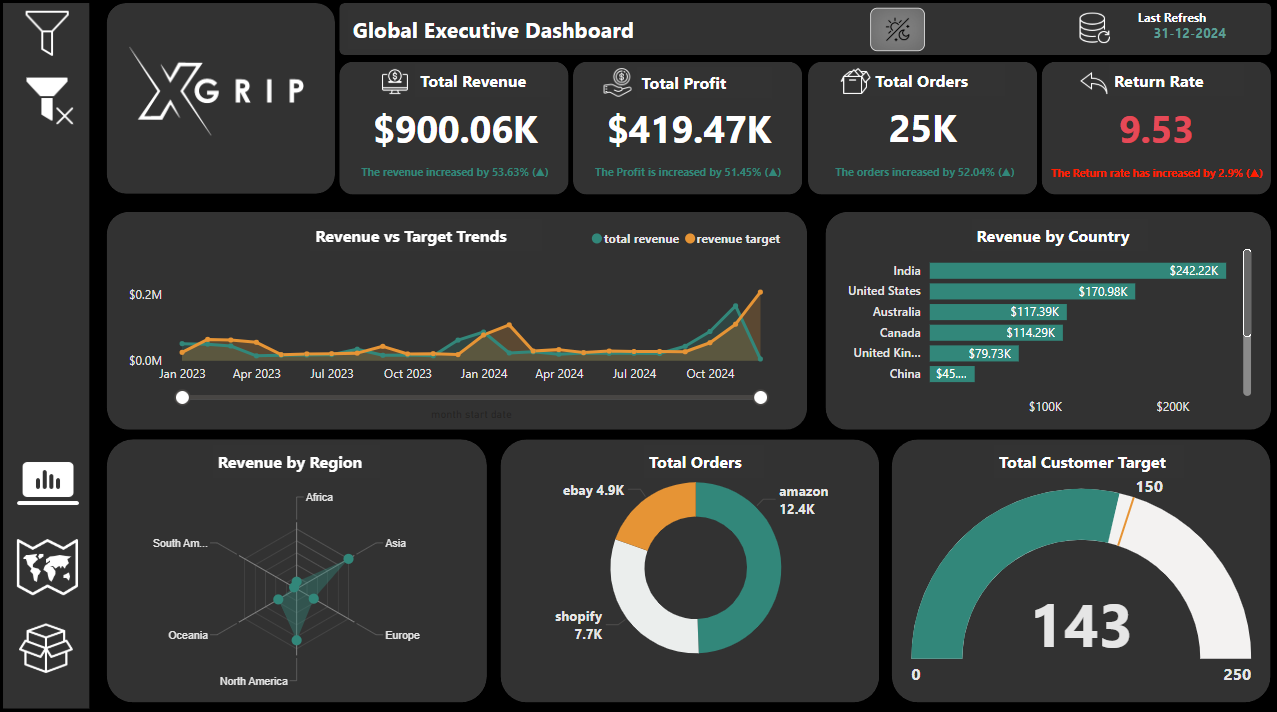

This screenshot's page, from the dashboard's own definition file:
{"tool":"powerbi","page":{"name":"Dark Executive Dashboard","canvas":[1280,720],"ordinal":3},"visuals":[{"type":"shape","title":"Logo Shape","box":[66.1,7.3,238.6,159.7],"z":0},{"type":"shape","title":"KPI1","box":[314.4,58.8,245,125],"z":0,"group":"g1"},{"type":"shape","title":"Logo Shape","box":[64.9,183.3,732.8,230.9],"z":0,"group":"g2"},{"type":"image","title":"Map Chart","box":[0,586,63.6,61.2],"z":0,"group":"g3"},{"type":"shape","title":"Heading SHape","box":[314.5,0,965.5,60.9],"z":1000},{"type":"shape","title":"KPI2","box":[554.7,58.8,244.7,125],"z":1000,"group":"g1"},{"type":"shape","title":"Logo Shape","box":[797,183.3,481.4,230.9],"z":1000,"group":"g2"},{"type":"image","title":"Product Chart","box":[0,643.6,64.9,66.1],"z":1000,"group":"g3"},{"type":"shape","title":"Filter Pane Shape","box":[0,0,66.5,720],"z":2000},{"type":"shape","title":"KPI3","box":[794.7,58.8,245,125],"z":2000,"group":"g1"},{"type":"shape","title":"Logo Shape","box":[64.9,407.3,405,311.4],"z":2000,"group":"g2"},{"type":"image","title":"Dashboard ceo","box":[0,528.6,67.3,67.3],"z":2000,"group":"g3"},{"type":"group","id":"g1","title":"KPI Shape","box":[67,58.8,1213,661.2],"z":3000},{"type":"shape","title":"KPI4","box":[1035,58.8,245,125],"z":3000,"group":"g1"},{"type":"shape","title":"Logo Shape","box":[466.8,407.3,405,311.4],"z":3000,"group":"g2"},{"type":"group","id":"g2","title":"Chart Shape","box":[64.9,183.3,1213.5,535.4],"z":4000},{"type":"shape","title":"Logo Shape","box":[868.8,407.3,405,311.4],"z":4000,"group":"g2"},{"type":"textbox","box":[67,535,346,185],"z":4000,"group":"g1"},{"type":"RadarChart1446119667547","fields":{"Category":["country.region"],"Y":["measures table.total revenue"]},"box":[89,448,351.6,246.2],"z":5000,"group":"g2"},{"type":"textbox","box":[330.1,10.8,278,40.3],"z":6000},{"type":"donutChart","fields":{"Category":["mkt_place.platform_name"],"Y":["measures table.total orders"]},"box":[511.9,436.3,325.7,260.6],"z":6000,"group":"g2"},{"type":"card","fields":{"Values":["measures table.total revenue"]},"box":[356.4,80.8,168.8,79],"z":7000},{"type":"gauge","fields":{"Y":["measures table.total customers"]},"box":[926.4,462.4,303.7,232],"z":7000,"group":"g2"},{"type":"card","fields":{"Values":["measures table.total profit"]},"box":[592.5,80.8,167.9,79],"z":8000},{"type":"card","fields":{"Values":["measures table.total orders"]},"box":[862.7,98.1,113.7,48],"z":9000},{"type":"card","fields":{"Values":["measures table.return rate"]},"box":[1083.9,100.1,130.4,43.8],"z":10000},{"type":"lineChart","fields":{"Y":["measures table.total revenue","measures table.month rev target lc"],"Category":["date_table.Year Hierarchy.Year","date_table.Year Hierarchy.Quarter","date_table.Year Hierarchy.Month Start Date"]},"box":[88.7,219,686.8,172.7],"z":11000},{"type":"barChart","fields":{"Category":["country.country"],"Y":["measures table.total revenue"]},"box":[827.6,219,429.2,178.4],"z":12000},{"type":"textbox","box":[402.8,70.7,103.7,31.2],"z":13000},{"type":"textbox","box":[640.1,71.8,84.4,31.4],"z":14000},{"type":"textbox","box":[890,72.7,94.5,31.8],"z":15000},{"type":"textbox","box":[1128.6,69.7,85.3,32.1],"z":16000},{"type":"textbox","box":[342.9,194.8,196.6,31.4],"z":17000},{"type":"textbox","box":[967.1,194.5,167,32.1],"z":18000},{"type":"textbox","box":[205.6,419.3,150.8,31.4],"z":19000},{"type":"textbox","box":[579.1,423.7,220.8,31.4],"z":20000},{"type":"textbox","box":[993.8,423.7,163.4,31.4],"z":21000},{"type":"textbox","box":[1116.8,7.2,97,31.4],"z":22000},{"type":"card","fields":{"Values":["measures table.last refresh"]},"box":[1100,25.3,124,24.7],"z":23000},{"type":"group","id":"g3","title":"Page Nav Icons","box":[0,528.6,67.3,181.1],"z":24000},{"type":"card","fields":{"Values":["measures table.kpi revenue"]},"box":[342.2,144,197.2,30.3],"z":28000},{"type":"card","fields":{"Values":["measures table.kpi profit"]},"box":[583.1,145,197.2,30.3],"z":29000},{"type":"card","fields":{"Values":["measures table.kpi orders"]},"box":[821,146,197.2,30.3],"z":30000},{"type":"card","fields":{"Values":["measures table.kpi returnrate"]},"box":[1063,146,197.2,30.3],"z":31000},{"type":"textbox","box":[83.3,121.3,221.4,40.1],"z":32000},{"type":"image","title":"Logo","box":[60.1,3.6,254.1,155.3],"z":33000},{"type":"image","box":[725.4,8.4,53.8,43.2],"z":34000},{"type":"image","box":[1064.7,7.2,49.4,45.8],"z":35000},{"type":"shape","title":"Logo Shape","box":[172.4,100.5,119.4,21.5],"z":36000},{"type":"image","box":[371.3,67.8,49.1,37.3],"z":37000},{"type":"image","box":[608.1,63.9,39.3,40.3],"z":38000},{"type":"image","box":[862.5,70.7,34.4,37.3],"z":39000},{"type":"image","box":[1100.2,67.8,32.4,32.4],"z":40000},{"type":"image","title":"Filter Icon DV","box":[0,8.1,59.3,51.2],"z":41000},{"type":"image","title":"Clear All Filters button DV","box":[0.9,61,61.9,50.3],"z":42000}]}

Visuals, with their boxes on the page's 1280x720 design canvas (x1, y1, x2, y2). These are canvas units, not pixel positions in the 1277x712 screenshot, which may show the page scaled, cropped or inside an application window:
"Logo Shape" shape: (x1=66, y1=7, x2=305, y2=167)
"KPI1" shape: (x1=314, y1=59, x2=559, y2=184)
"Logo Shape" shape: (x1=65, y1=183, x2=798, y2=414)
"Map Chart" image: (x1=0, y1=586, x2=64, y2=647)
"Heading SHape" shape: (x1=314, y1=0, x2=1280, y2=61)
"KPI2" shape: (x1=555, y1=59, x2=799, y2=184)
"Logo Shape" shape: (x1=797, y1=183, x2=1278, y2=414)
"Product Chart" image: (x1=0, y1=644, x2=65, y2=710)
"Filter Pane Shape" shape: (x1=0, y1=0, x2=66, y2=720)
"KPI3" shape: (x1=795, y1=59, x2=1040, y2=184)
"Logo Shape" shape: (x1=65, y1=407, x2=470, y2=719)
"Dashboard ceo" image: (x1=0, y1=529, x2=67, y2=596)
"KPI Shape" group: (x1=67, y1=59, x2=1280, y2=720)
"KPI4" shape: (x1=1035, y1=59, x2=1280, y2=184)
"Logo Shape" shape: (x1=467, y1=407, x2=872, y2=719)
"Chart Shape" group: (x1=65, y1=183, x2=1278, y2=719)
"Logo Shape" shape: (x1=869, y1=407, x2=1274, y2=719)
textbox: (x1=67, y1=535, x2=413, y2=720)
RadarChart1446119667547 - country.region x measures table.total revenue: (x1=89, y1=448, x2=441, y2=694)
textbox: (x1=330, y1=11, x2=608, y2=51)
donutChart - mkt_place.platform_name x measures table.total orders: (x1=512, y1=436, x2=838, y2=697)
card - measures table.total revenue: (x1=356, y1=81, x2=525, y2=160)
gauge - measures table.total customers: (x1=926, y1=462, x2=1230, y2=694)
card - measures table.total profit: (x1=592, y1=81, x2=760, y2=160)
card - measures table.total orders: (x1=863, y1=98, x2=976, y2=146)
card - measures table.return rate: (x1=1084, y1=100, x2=1214, y2=144)
lineChart - measures table.total revenue x measures table.month rev target lc: (x1=89, y1=219, x2=776, y2=392)
barChart - country.country x measures table.total revenue: (x1=828, y1=219, x2=1257, y2=397)
textbox: (x1=403, y1=71, x2=506, y2=102)
textbox: (x1=640, y1=72, x2=724, y2=103)
textbox: (x1=890, y1=73, x2=984, y2=104)
textbox: (x1=1129, y1=70, x2=1214, y2=102)
textbox: (x1=343, y1=195, x2=540, y2=226)
textbox: (x1=967, y1=194, x2=1134, y2=227)
textbox: (x1=206, y1=419, x2=356, y2=451)
textbox: (x1=579, y1=424, x2=800, y2=455)
textbox: (x1=994, y1=424, x2=1157, y2=455)
textbox: (x1=1117, y1=7, x2=1214, y2=39)
card - measures table.last refresh: (x1=1100, y1=25, x2=1224, y2=50)
"Page Nav Icons" group: (x1=0, y1=529, x2=67, y2=710)
card - measures table.kpi revenue: (x1=342, y1=144, x2=539, y2=174)
card - measures table.kpi profit: (x1=583, y1=145, x2=780, y2=175)
card - measures table.kpi orders: (x1=821, y1=146, x2=1018, y2=176)
card - measures table.kpi returnrate: (x1=1063, y1=146, x2=1260, y2=176)
textbox: (x1=83, y1=121, x2=305, y2=161)
"Logo" image: (x1=60, y1=4, x2=314, y2=159)
image: (x1=725, y1=8, x2=779, y2=52)
image: (x1=1065, y1=7, x2=1114, y2=53)
"Logo Shape" shape: (x1=172, y1=100, x2=292, y2=122)
image: (x1=371, y1=68, x2=420, y2=105)
image: (x1=608, y1=64, x2=647, y2=104)
image: (x1=862, y1=71, x2=897, y2=108)
image: (x1=1100, y1=68, x2=1133, y2=100)
"Filter Icon DV" image: (x1=0, y1=8, x2=59, y2=59)
"Clear All Filters button DV" image: (x1=1, y1=61, x2=63, y2=111)
